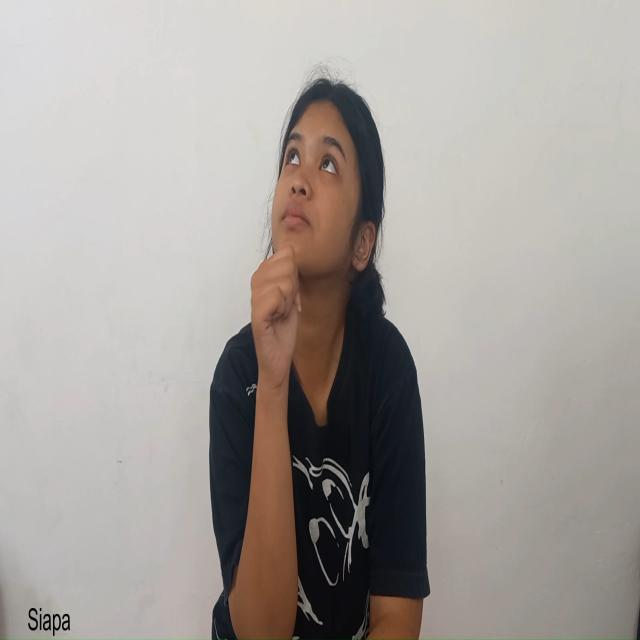Siapa -BISINDO-: (248, 72, 388, 430)
